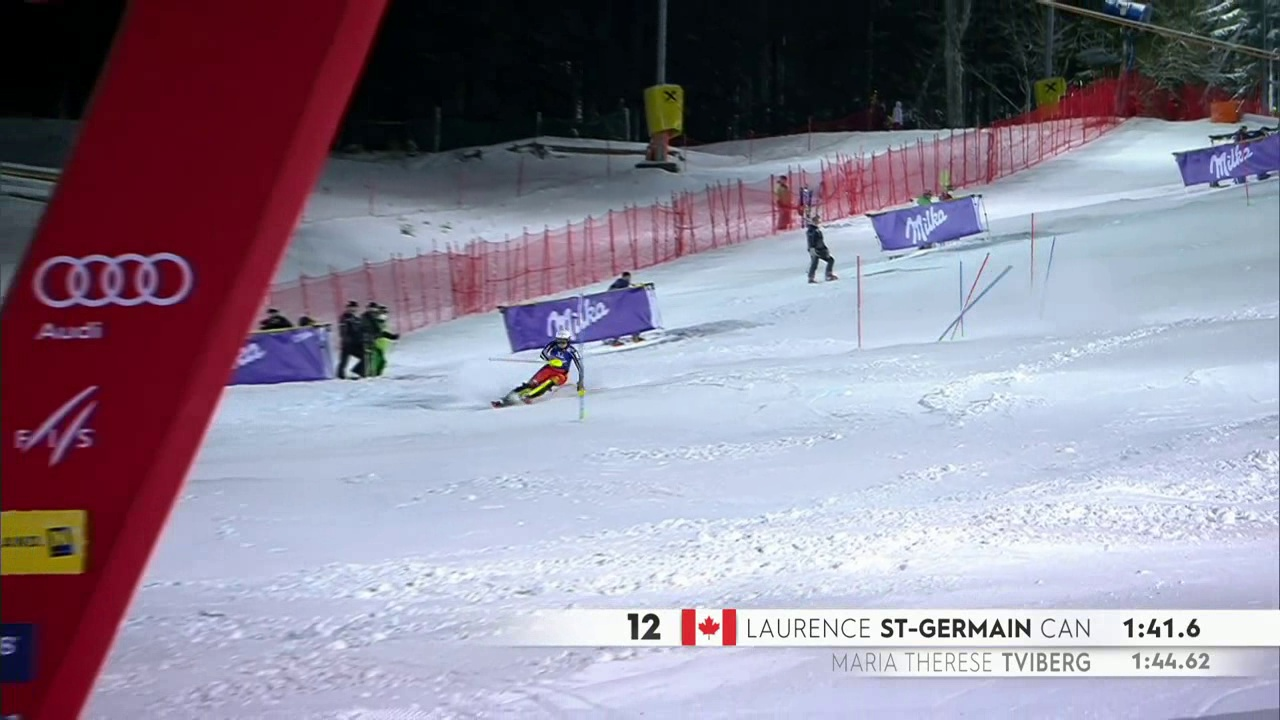audi: (19, 246, 209, 319)
raiffeisen: (1033, 75, 1067, 105)
